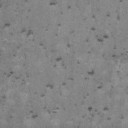oxide scale of temperature system: (0, 2, 125, 120), (90, 0, 122, 42), (112, 53, 124, 58)
